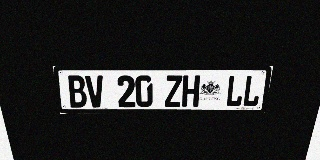0: (135, 75, 153, 107)
2: (117, 75, 135, 107)
B: (66, 75, 88, 108)
H: (182, 75, 200, 107)
L: (242, 75, 263, 107), (225, 75, 245, 107)
V: (85, 75, 105, 107)
Z: (165, 75, 182, 107)
